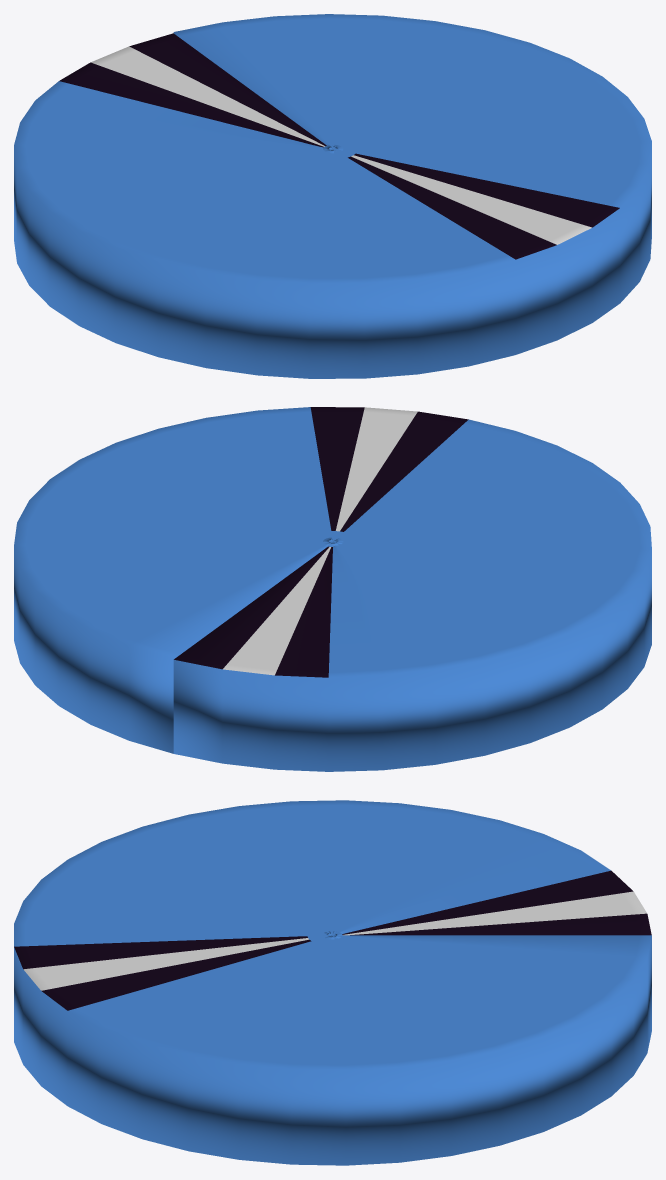
The model's file is completeCircleWithTwoSides.fbx.
The picture shows the model from 3 angles, top to bottom: view 1: azimuth 30°, elevation 25°; view 2: azimuth 150°, elevation 25°; view 3: azimuth 270°, elevation 25°; orthographic projection.
Visible parts, largest first — view 1: Cube; view 2: Cube; view 3: Cube.
Part boxes in pixels (<box>): Cube: <box>14,14,651,378</box>; Cube: <box>14,407,651,771</box>; Cube: <box>14,800,651,1165</box>.
Bounding box in the file's own units: 6087 × 1004 × 6082.
